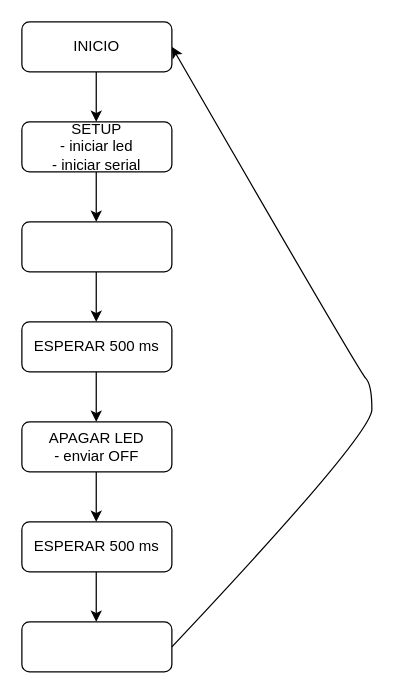
The diagram is 394 pixels wide and 694 high, and some of its shapes have lost their labels. Each missing label, with the centre of its shape:
"ENCENDER LED -Enviar ON" goes at pixel 96 246.
"REPETIR LOOP" goes at pixel 96 646.
